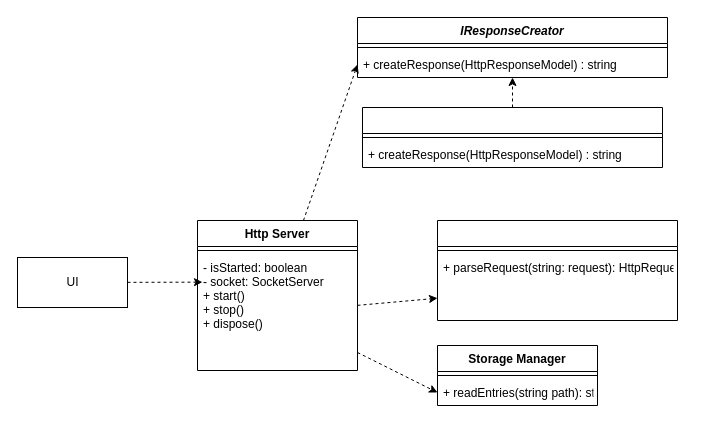
This 702x426 diagram has some shape labels left out. The shapes that lost their labels are listed below. From the top down, each one's box as (x1, y1, x2, y2) in pixels, then its label:
(362, 106, 662, 168): Html Response Creator
(436, 220, 678, 320): Request Parser
